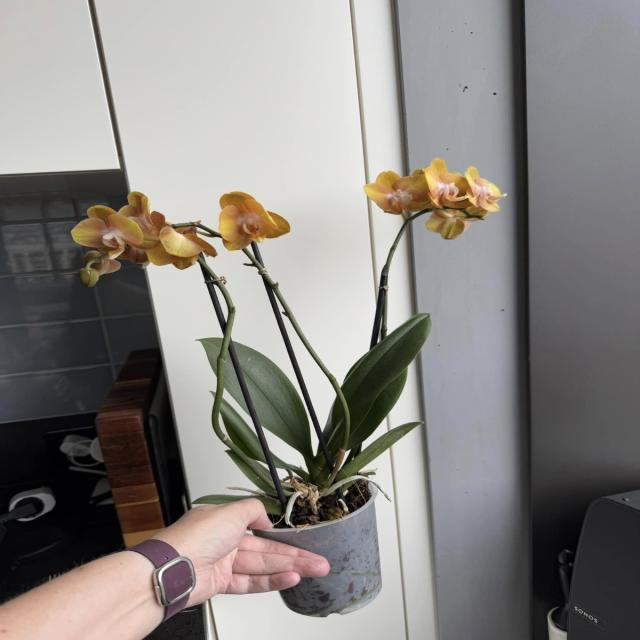flower: (74, 196, 203, 266), (428, 159, 504, 214), (219, 192, 289, 249), (366, 167, 427, 214), (426, 207, 496, 239)
leaf: (344, 314, 430, 447), (231, 342, 313, 460), (337, 422, 421, 481)
plant: (18, 115, 476, 638)
pot: (228, 470, 398, 624)
